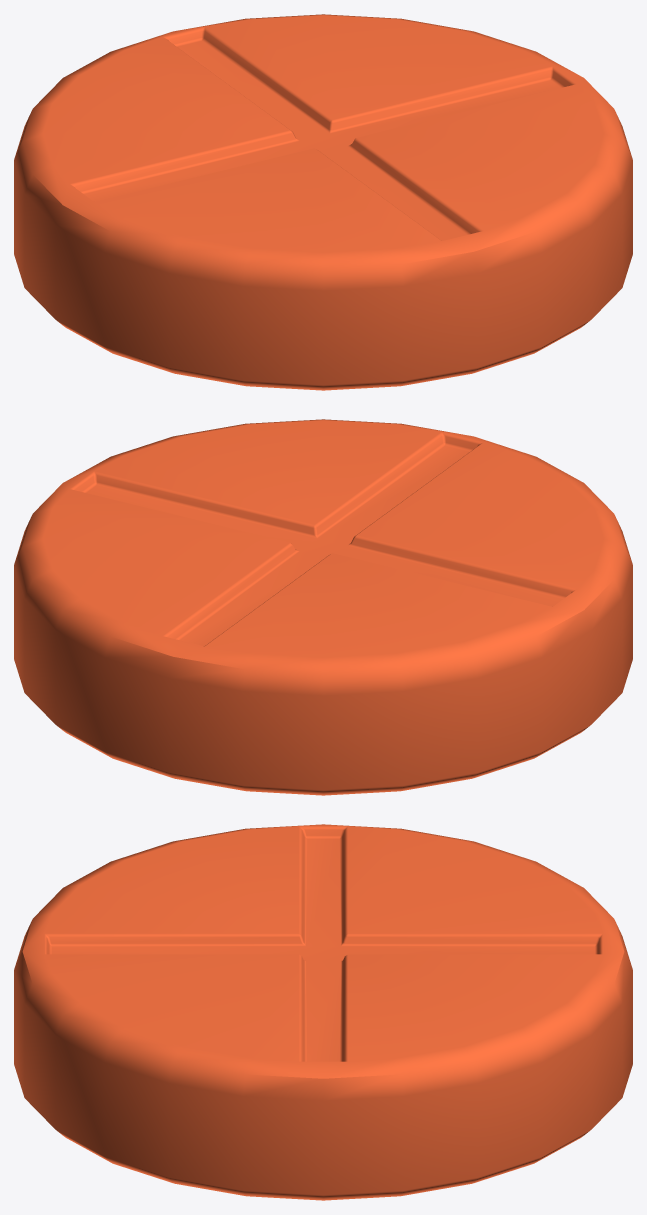
File: Store_15_Pill_3.glb
3 renders of one model, top to bottom at view 1: azimuth 30°, elevation 25°; view 2: azimuth 150°, elevation 25°; view 3: azimuth 270°, elevation 25°, orthographic.
Parts seen in each view (by area): view 1: Store_15_Pill_3; view 2: Store_15_Pill_3; view 3: Store_15_Pill_3.
Boxes of the visible parts, x1,y1,x2,y2 form: Store_15_Pill_3: (14, 14, 632, 390); Store_15_Pill_3: (14, 419, 632, 795); Store_15_Pill_3: (14, 824, 632, 1200).
Bounding box in the file's own units: 1.11 × 0.2583 × 1.11.
1 material, 1 textured.
